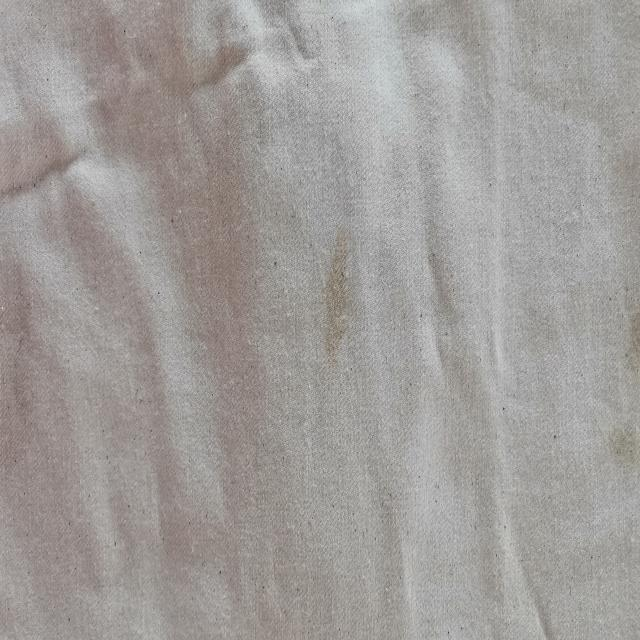taaaches: (324, 198, 354, 373), (602, 411, 640, 468), (625, 309, 640, 374)
